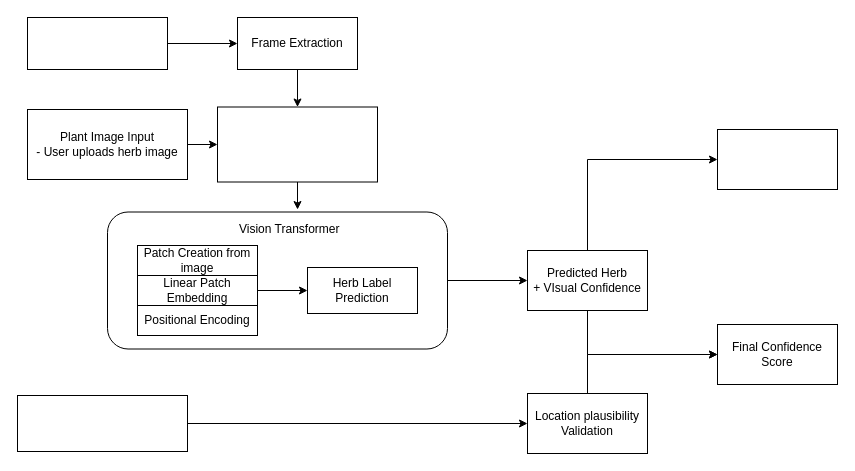
The diagram is 855 pixels wide and 471 high, and some of its shapes have lost their labels. Here are the shapes that lost their labels. From the top down, the centre of each, then its label:
the point at 97,43: Video Input
the point at 297,144: Image Preprocessing - Resize - Normalize
the point at 777,159: Herb Distribution Map visualization
the point at 102,423: Location Input
